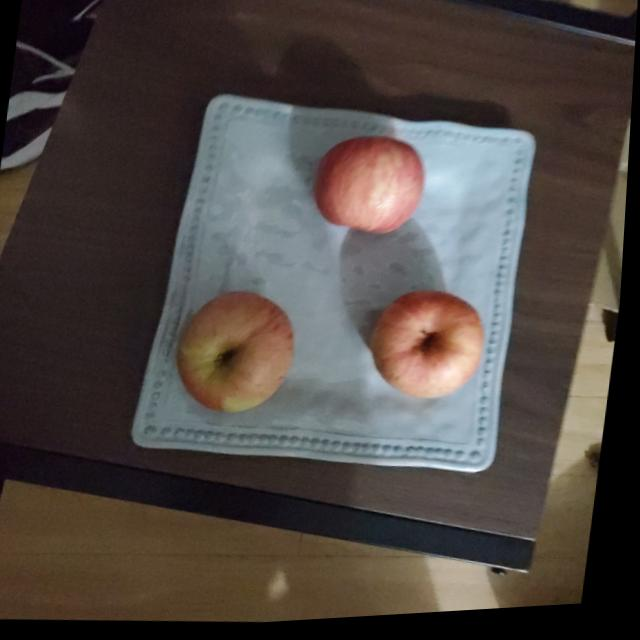apple: (175, 287, 306, 421), (366, 288, 494, 411), (312, 134, 431, 243)
